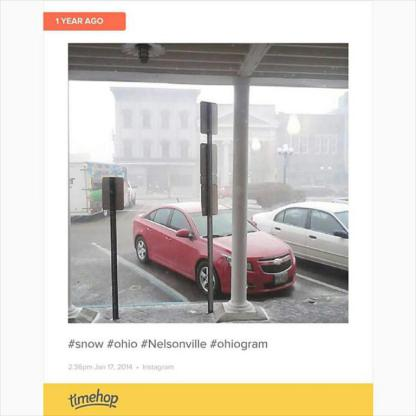Car: (131, 197, 300, 298), (249, 201, 348, 270), (218, 185, 232, 199)
